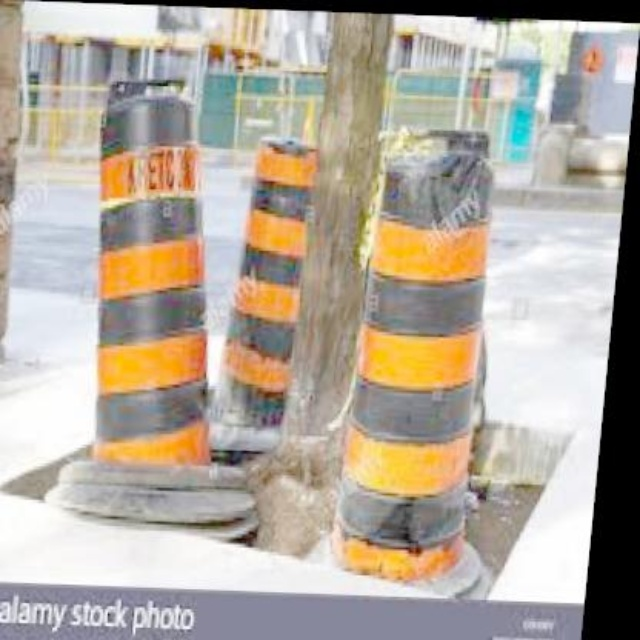obstacle: (58, 72, 251, 464), (350, 158, 511, 585)
